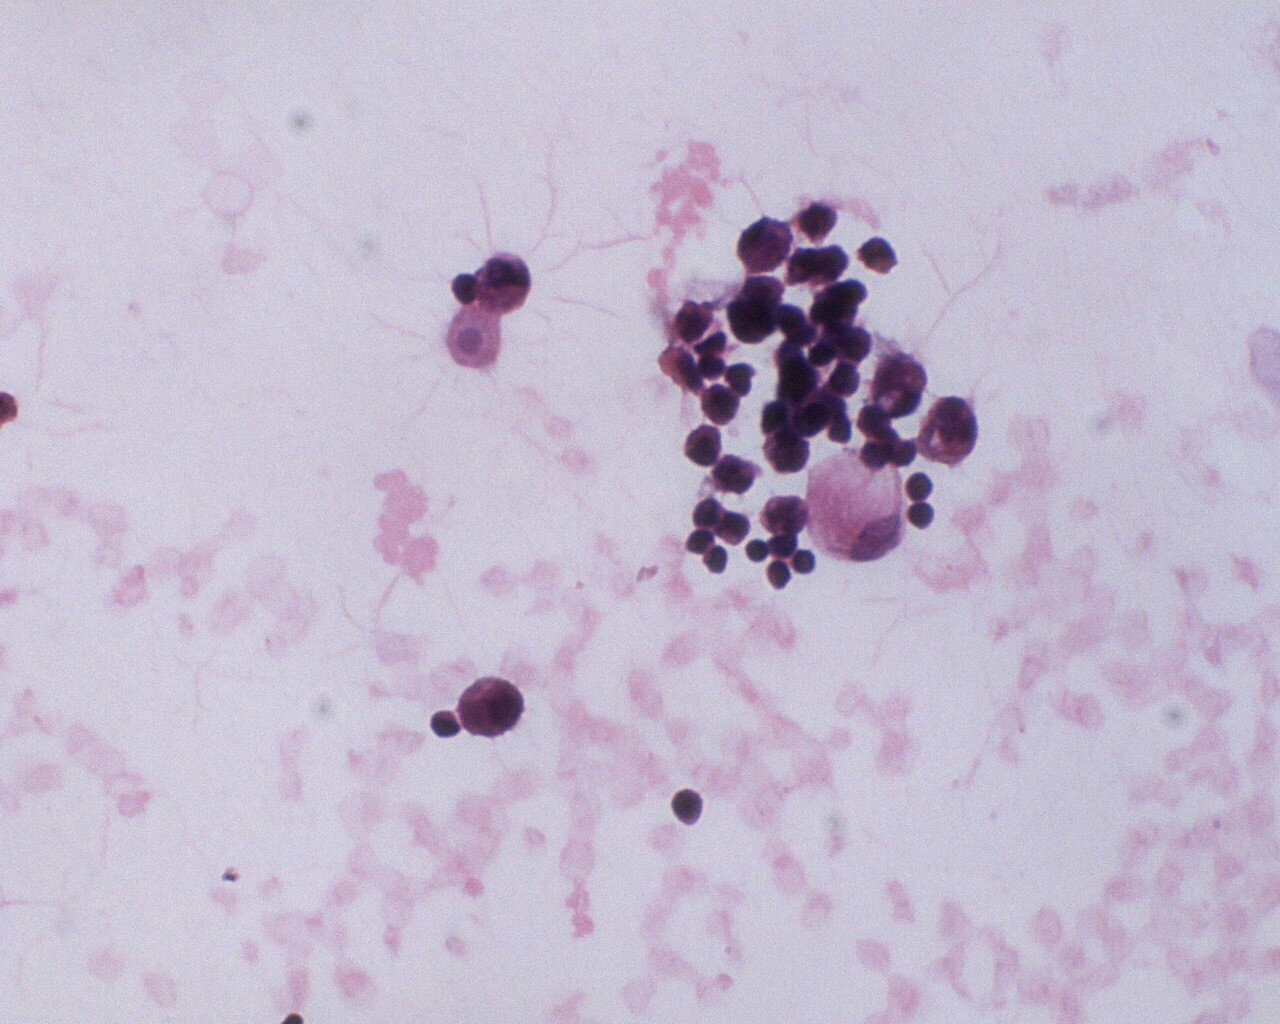ab: (734, 212, 793, 279)
histo: (808, 444, 909, 565)
lymph: (666, 783, 713, 830), (428, 703, 463, 749), (901, 465, 938, 501), (742, 536, 771, 571)
meso: (456, 673, 532, 742)
